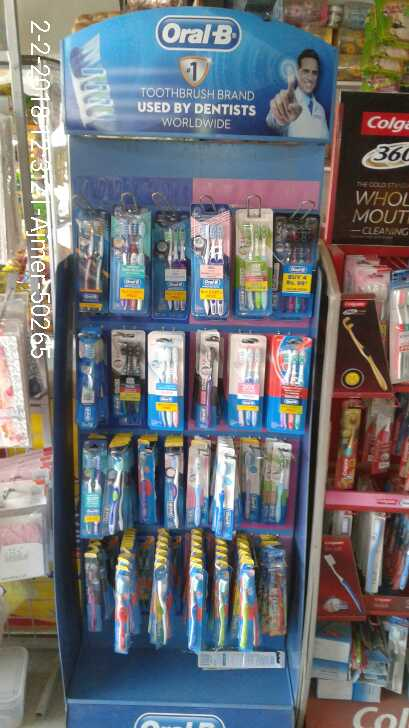oralb: (146, 204, 192, 318), (105, 209, 151, 318), (190, 208, 231, 317), (271, 213, 312, 319), (234, 211, 273, 315), (269, 337, 306, 435), (110, 329, 147, 426), (226, 336, 262, 430), (147, 333, 182, 429), (77, 209, 108, 312), (76, 332, 101, 428), (83, 444, 106, 538), (268, 552, 292, 635), (134, 445, 158, 524), (149, 563, 171, 647), (198, 332, 216, 429), (105, 453, 126, 536), (188, 444, 208, 527), (113, 570, 130, 658), (268, 443, 286, 524), (165, 449, 183, 529), (241, 440, 259, 520), (239, 567, 255, 654), (214, 573, 230, 653), (187, 576, 200, 652)
